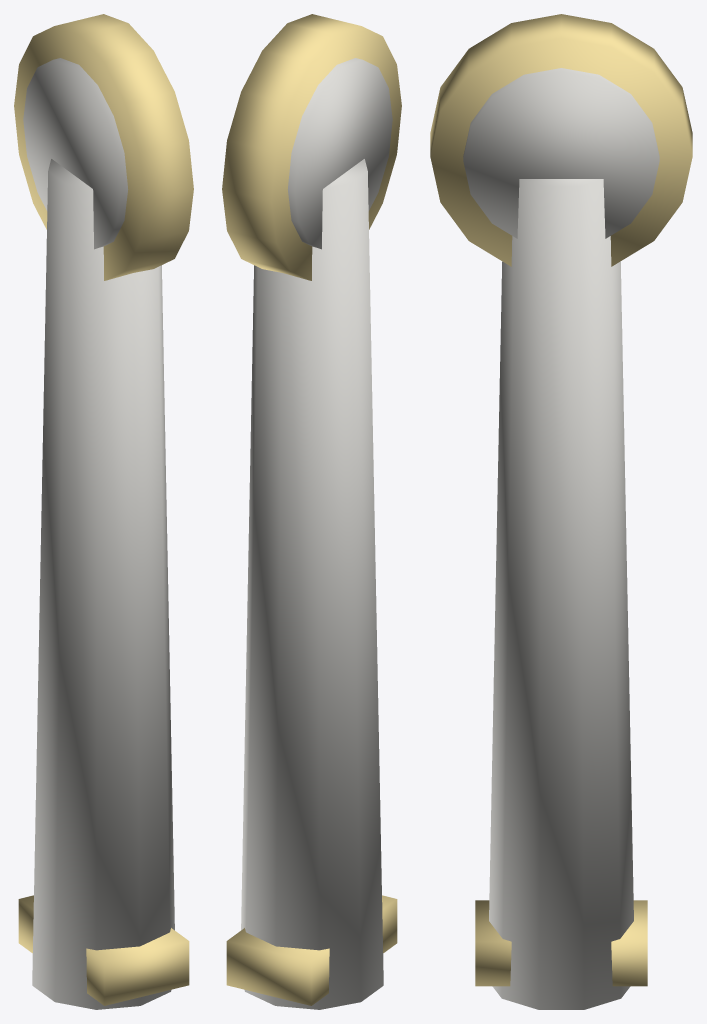
File: winning-post.glb
3 renders of one model, left to right at view 1: azimuth 30°, elevation 25°; view 2: azimuth 150°, elevation 25°; view 3: azimuth 270°, elevation 25°, orthographic.
Visible parts, largest first — view 1: WinningPost; view 2: WinningPost; view 3: WinningPost.
Boxes of the visible parts, x1,y1,x2,y2 form: WinningPost: (14, 14, 193, 1009); WinningPost: (222, 14, 401, 1009); WinningPost: (430, 14, 692, 1009).
Size of the model in its own units: 0.0342 by 0.257 by 0.064.
